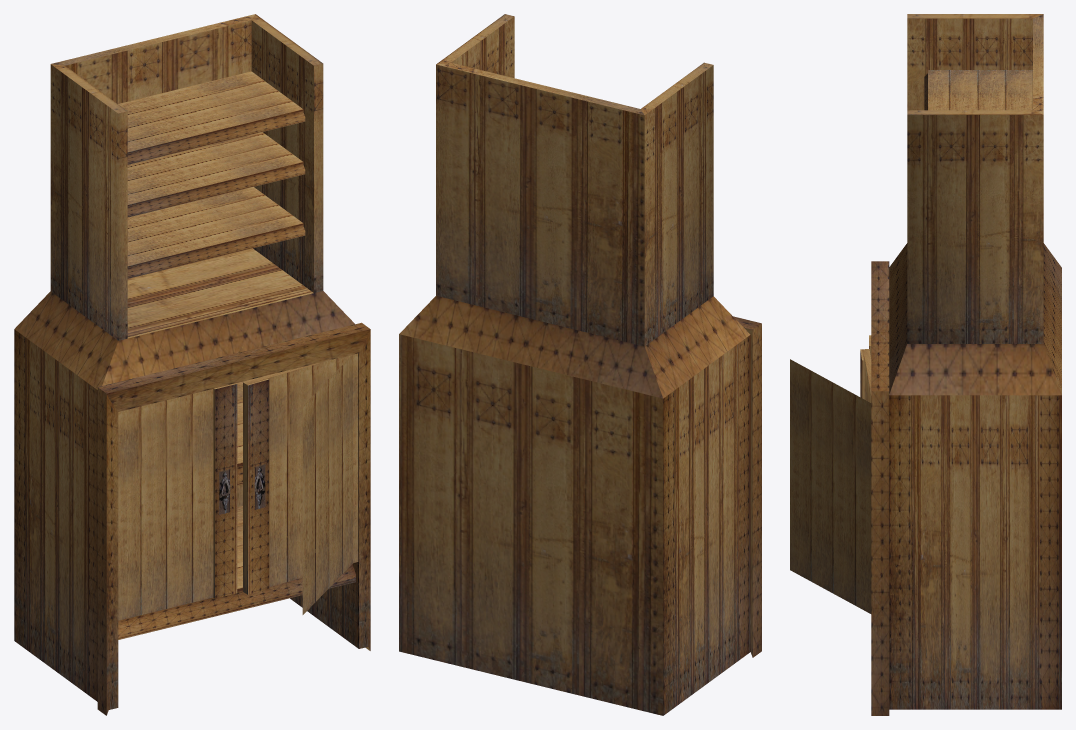
The model's file is CabinetB.dae.
3 renders of one model, left to right at view 1: azimuth 30°, elevation 25°; view 2: azimuth 150°, elevation 25°; view 3: azimuth 270°, elevation 25°, orthographic.
Parts seen in each view (by area): view 1: meshU3D; view 2: meshU3D; view 3: meshU3D.
Boxes of the visible parts, x1=… form: meshU3D: x1=14, y1=14, x2=370, y2=715; meshU3D: x1=399, y1=14, x2=761, y2=715; meshU3D: x1=790, y1=14, x2=1061, y2=715.
Size of the model in its own units: 34.11 by 71.84 by 30.17.
